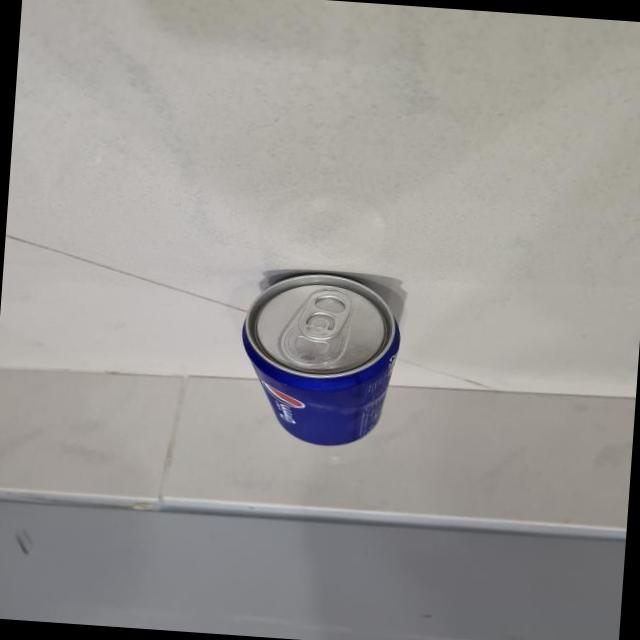Kaleng: (232, 268, 405, 452)
